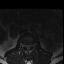CCS_stenosis: (27, 43, 28, 50)
LFS_stenosis: (30, 43, 32, 48)
LLS_stenosis: (29, 43, 30, 49)
RFS_stenosis: (23, 43, 25, 48)
RLS_stenosis: (25, 43, 27, 48)
